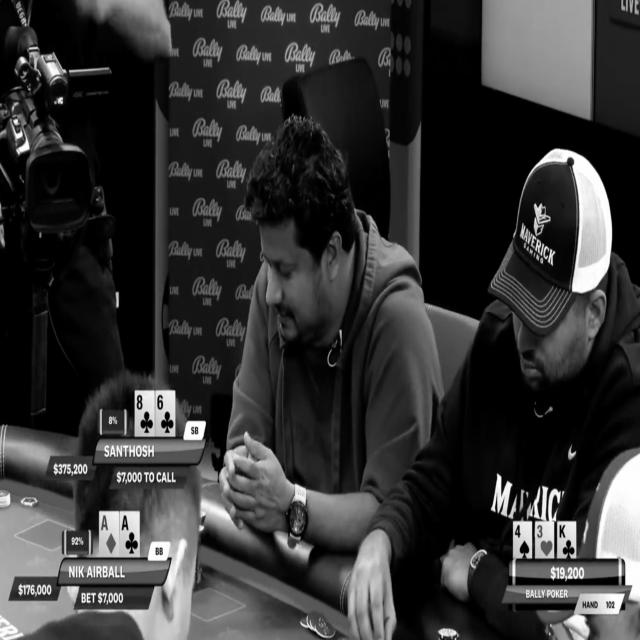3H: (535, 521, 554, 559)
4S: (513, 522, 533, 558)
6C: (156, 390, 176, 438)
8C: (134, 390, 155, 436)
AC: (120, 512, 140, 556)
AD: (98, 511, 120, 557)
KC: (557, 520, 576, 558)
